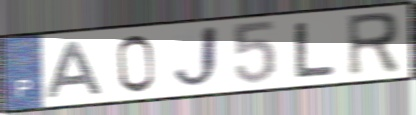0: (115, 33, 156, 95)
5: (229, 18, 280, 88)
A: (46, 40, 107, 101)
J: (169, 23, 223, 92)
L: (292, 20, 338, 79)
R: (344, 9, 403, 79)
